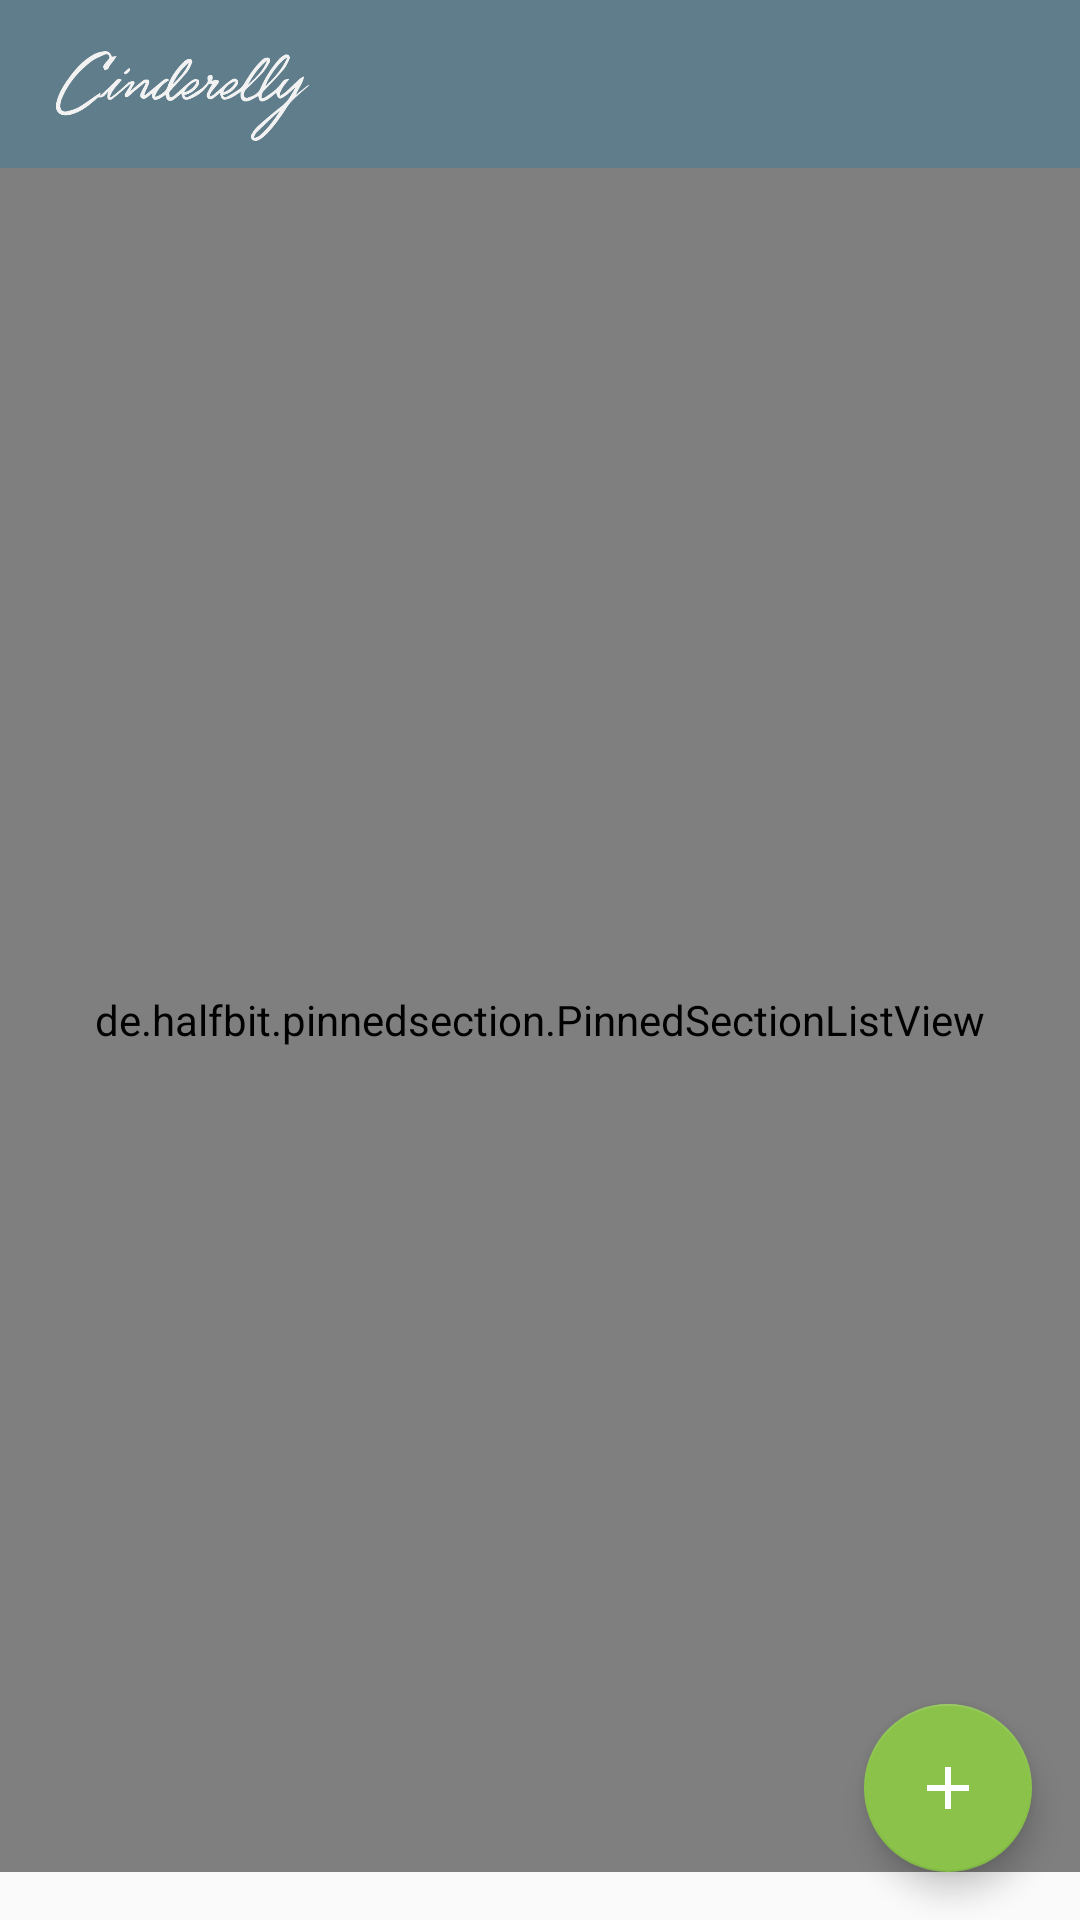

Locate icon controls on the screen. Image size 1080*1920, boxes as [x1, y1, x2, y2].
plus: [864, 1704, 1032, 1872]
